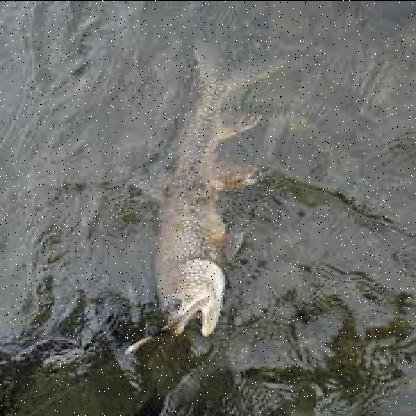fish: (125, 30, 287, 342)
